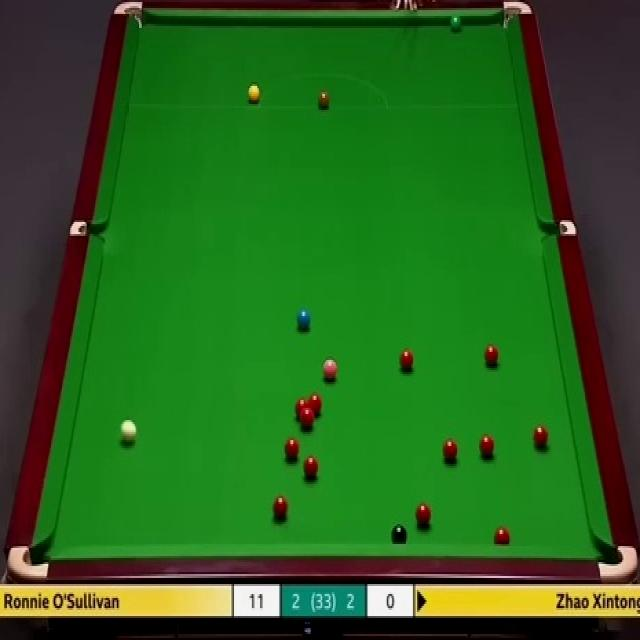black-ball: (392, 523, 408, 545)
blue-ball: (296, 308, 312, 329)
brown-ball: (318, 88, 330, 108)
green-ball: (450, 11, 463, 30)
pink-ball: (322, 359, 339, 384)
red-ball: (303, 451, 320, 480), (442, 438, 460, 464), (271, 493, 289, 519), (398, 346, 415, 373), (415, 504, 432, 530), (532, 422, 549, 448), (281, 439, 301, 461), (479, 434, 496, 458), (484, 344, 498, 369), (294, 398, 308, 422), (309, 393, 322, 418), (493, 526, 511, 543), (300, 411, 316, 430)
white-ball: (121, 418, 135, 444)
yellow-ball: (247, 86, 259, 102)
